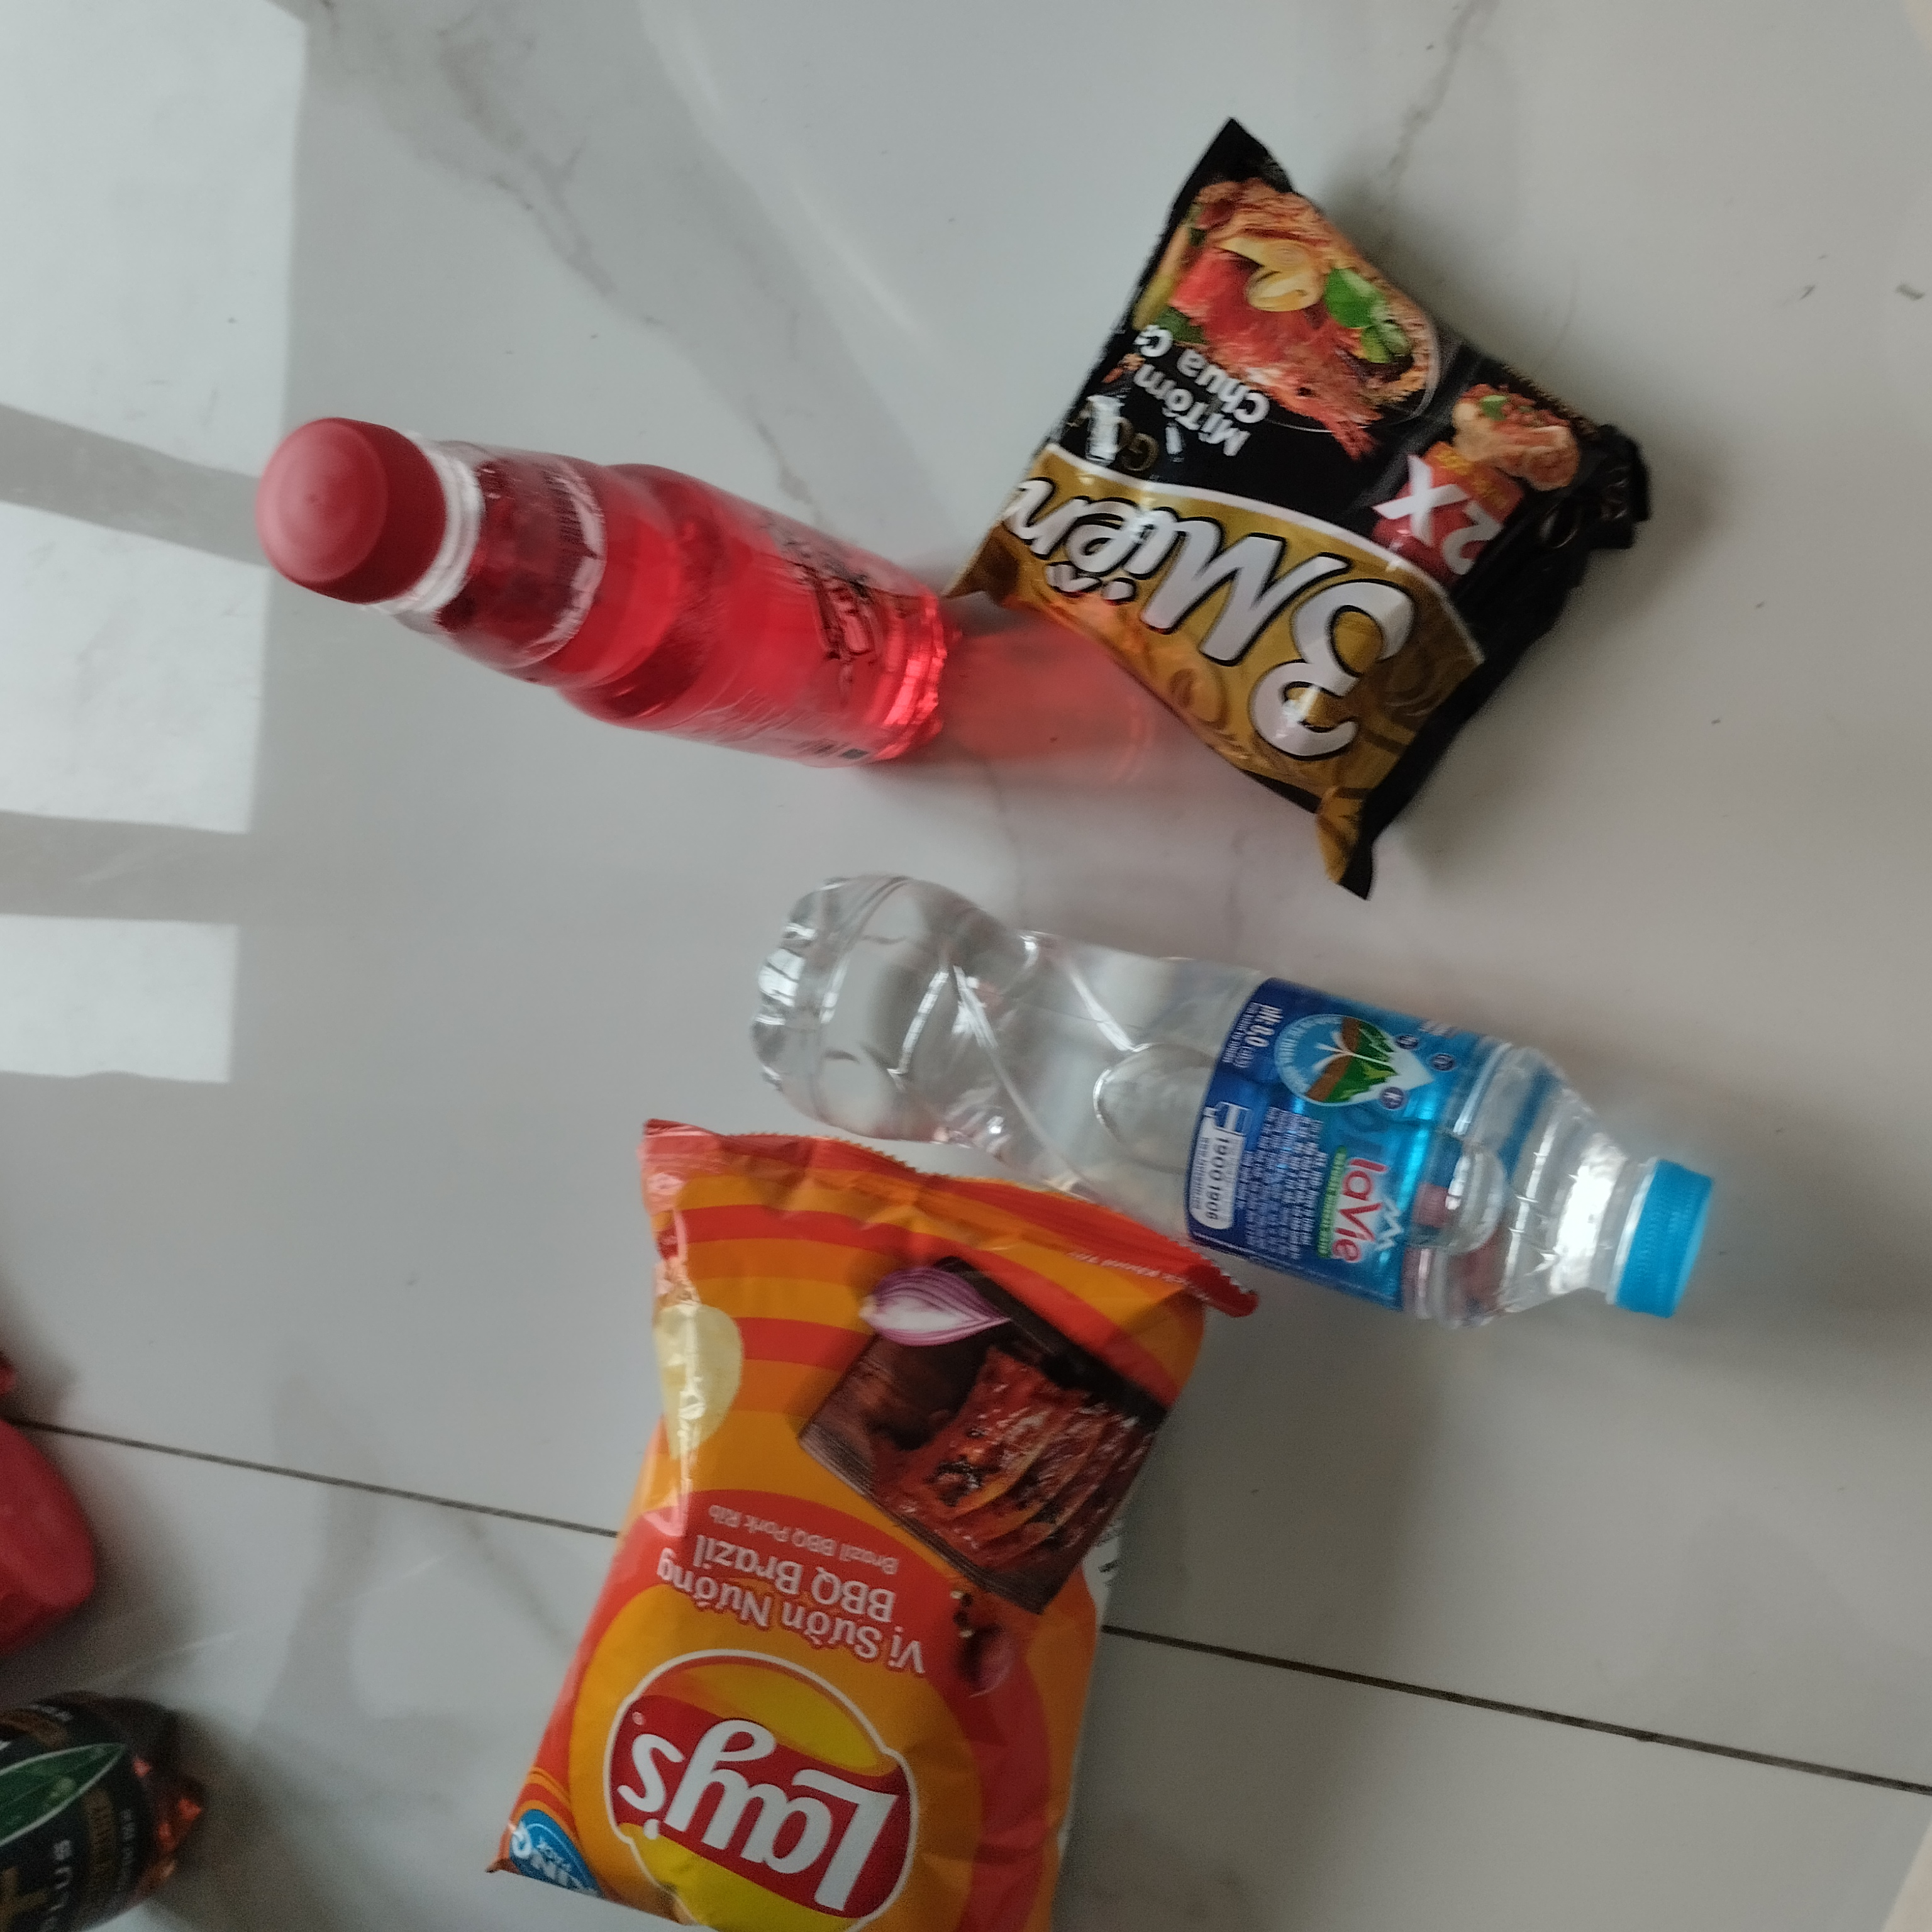3mien: (957, 101, 1663, 906)
Lavie: (755, 867, 1718, 1325)
Lays: (490, 1122, 1253, 1932)
Sting: (253, 409, 957, 777)
